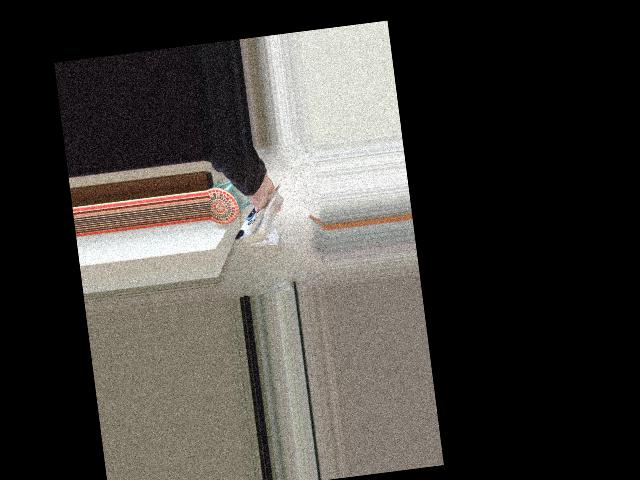cheese: (219, 173, 296, 255)
